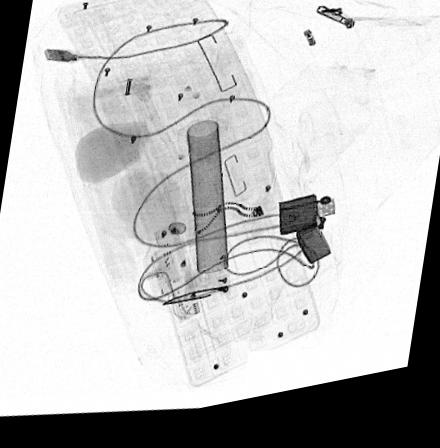Lighter: (278, 205, 335, 276)
